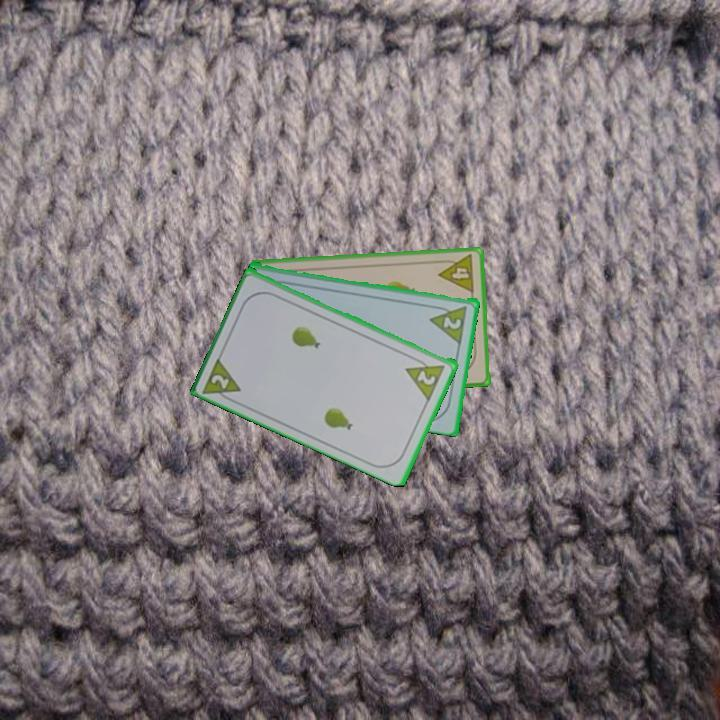2p: (199, 352, 245, 406), (402, 352, 449, 402), (440, 312, 464, 332)
4p: (435, 251, 477, 296)
